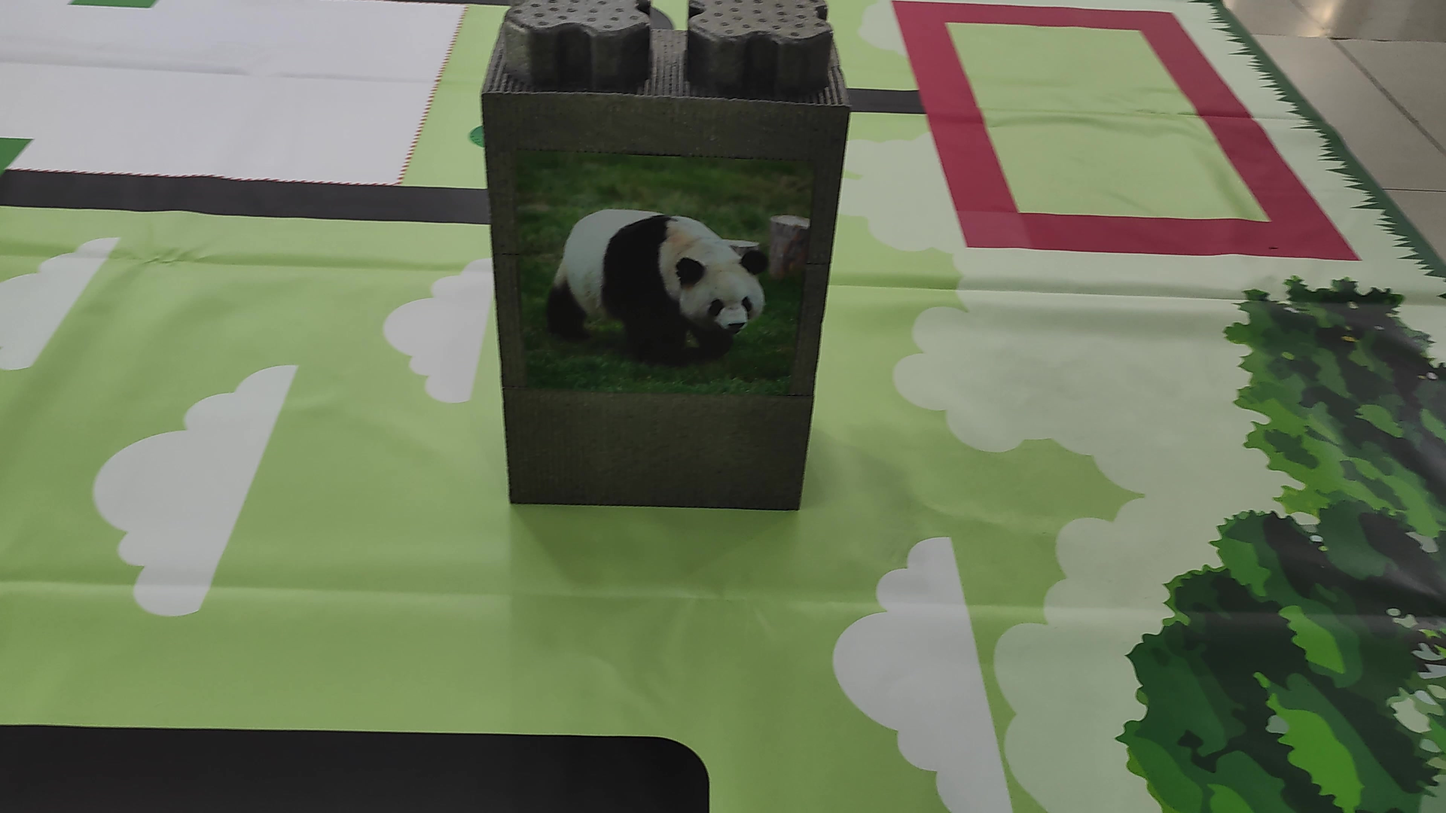panda: (534, 190, 793, 381)
